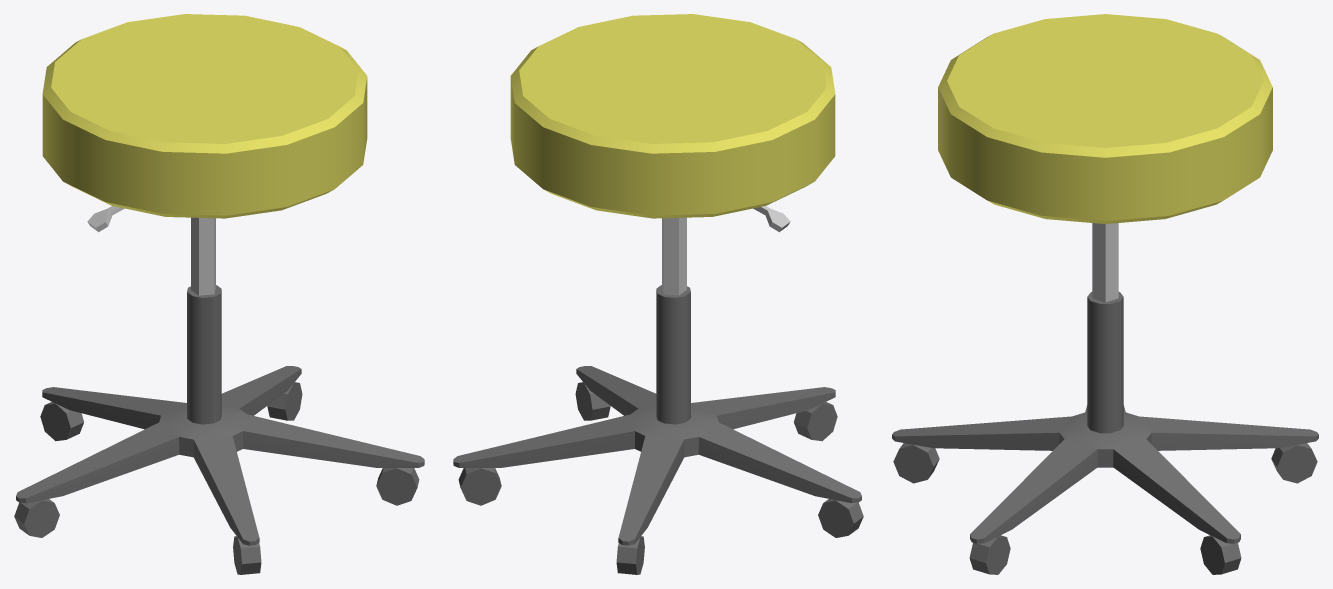
Rendered from Tabouret.fbx.
3 views of the same model, side by side, from view 1: azimuth 30°, elevation 25°; view 2: azimuth 150°, elevation 25°; view 3: azimuth 270°, elevation 25° (orthographic). The views are drawn at different scales.
Visible parts, largest first — view 1: Cylinder, bottom, top; view 2: Cylinder, bottom, top; view 3: Cylinder, bottom, top.
Part boxes in pixels (left/top/right/bottom): Cylinder: left=42, top=14, right=367, bottom=218; bottom: left=14, top=285, right=424, bottom=574; top: left=87, top=206, right=215, bottom=295; Cylinder: left=510, top=14, right=835, bottom=218; bottom: left=453, top=285, right=863, bottom=574; top: left=662, top=206, right=790, bottom=295; Cylinder: left=938, top=14, right=1272, bottom=223; bottom: left=892, top=292, right=1318, bottom=574; top: left=1092, top=223, right=1118, bottom=302.
Size of the model in its own units: 29.96 by 34.48 by 31.5.
